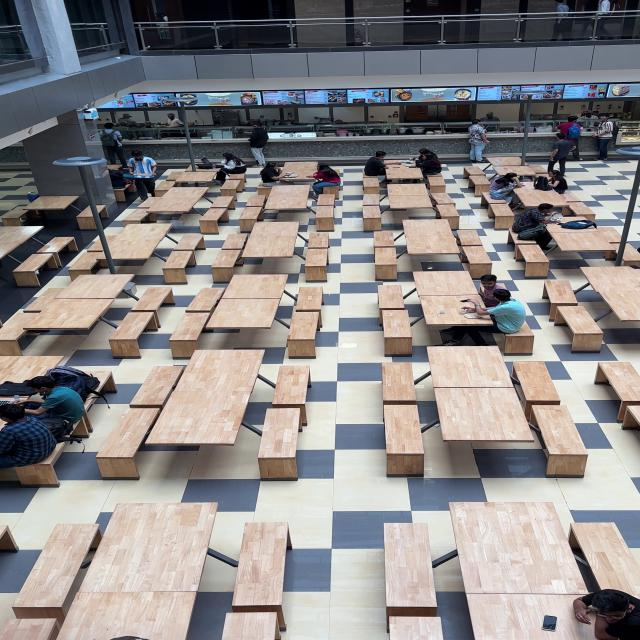Occupied: (464, 593, 598, 639), (11, 376, 87, 435), (0, 403, 58, 470), (572, 588, 640, 640), (546, 222, 618, 260), (421, 294, 494, 324), (486, 289, 530, 333), (512, 203, 557, 237), (488, 174, 523, 208), (309, 165, 342, 197), (214, 154, 248, 184), (362, 152, 392, 185), (413, 152, 442, 181), (477, 275, 509, 301), (504, 180, 564, 193), (260, 162, 287, 188), (181, 160, 227, 173), (544, 171, 568, 195), (277, 172, 323, 183), (383, 157, 422, 168), (109, 170, 131, 188)
Unoccupied: (77, 502, 219, 594), (447, 500, 585, 594), (11, 524, 100, 609), (49, 591, 199, 640), (432, 387, 536, 445), (567, 523, 639, 605), (145, 390, 251, 444), (94, 409, 163, 480), (232, 522, 290, 606), (383, 522, 435, 610), (529, 406, 590, 478), (175, 349, 267, 393), (20, 296, 122, 332), (577, 268, 640, 322), (427, 344, 517, 381), (95, 225, 175, 266), (511, 363, 562, 426), (383, 404, 425, 477), (202, 297, 283, 330), (401, 220, 462, 261), (129, 368, 188, 408), (108, 312, 160, 355), (554, 308, 606, 351), (53, 274, 138, 300), (240, 223, 301, 259), (6, 196, 79, 226), (258, 408, 301, 458), (168, 310, 213, 352), (594, 361, 640, 402), (412, 270, 480, 297), (0, 354, 64, 382), (0, 309, 54, 342), (220, 273, 290, 298), (220, 611, 279, 640), (148, 187, 208, 213), (543, 280, 579, 323), (286, 312, 321, 356), (128, 287, 174, 320), (1, 231, 44, 266), (10, 253, 57, 285), (272, 365, 310, 404), (381, 310, 414, 354), (381, 364, 415, 406), (32, 238, 76, 268), (389, 616, 444, 640), (0, 618, 59, 640), (514, 241, 551, 275), (258, 185, 310, 209), (499, 318, 535, 352), (457, 240, 493, 274), (384, 185, 433, 208), (161, 250, 195, 283), (294, 287, 323, 324), (185, 287, 226, 313), (303, 240, 329, 280), (210, 250, 242, 282), (217, 233, 249, 263), (168, 233, 204, 259), (198, 205, 231, 233), (67, 251, 102, 276), (509, 227, 542, 252), (376, 286, 406, 312), (237, 204, 264, 232), (428, 192, 458, 217), (314, 197, 336, 231), (487, 202, 515, 228), (374, 246, 398, 276), (561, 199, 597, 219), (586, 227, 622, 246), (76, 206, 107, 228), (1, 208, 35, 227), (208, 195, 236, 217), (85, 243, 108, 268), (614, 244, 640, 265), (119, 208, 151, 225), (456, 229, 484, 248), (219, 178, 241, 202), (622, 405, 640, 434), (244, 193, 268, 214), (522, 193, 563, 205), (281, 161, 320, 173), (373, 231, 395, 251), (463, 166, 488, 183), (307, 232, 330, 250), (362, 176, 382, 195), (316, 193, 338, 209), (494, 166, 533, 175), (426, 176, 446, 193), (486, 157, 527, 164)
